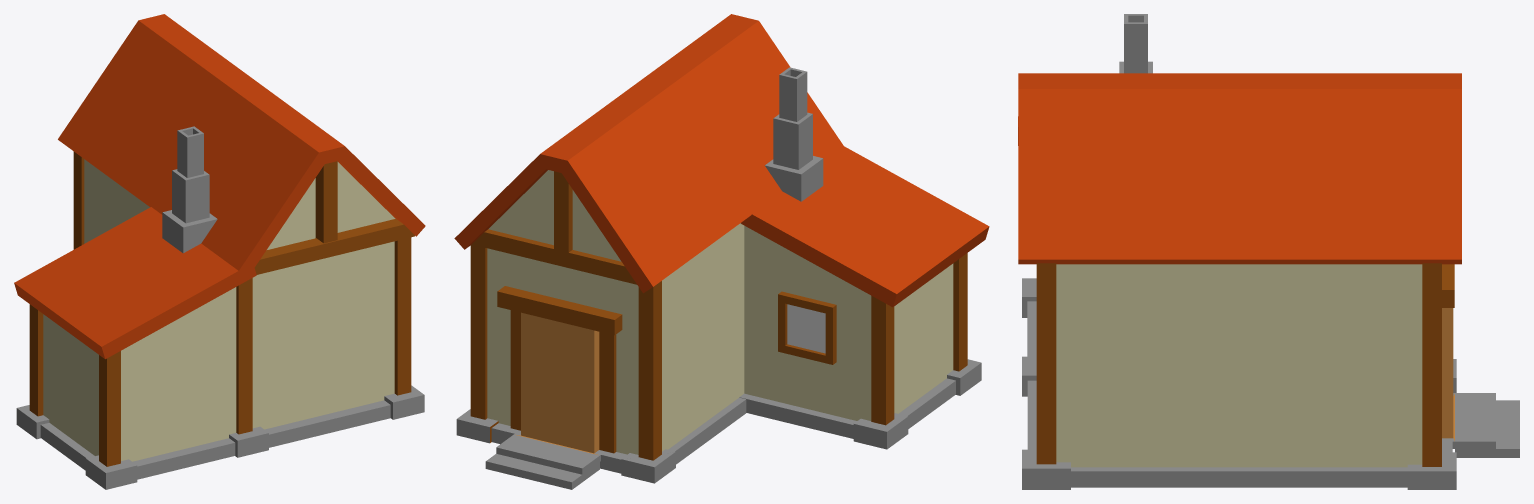
Rendered from House.fbx.
The picture shows the model from 3 angles, left to right: view 1: azimuth 30°, elevation 25°; view 2: azimuth 150°, elevation 25°; view 3: azimuth 270°, elevation 25°; orthographic projection. The views are drawn at different scales.
Visible parts, largest first — view 1: Base Haouse, Roof01, Chimneys, HousePole04, HousePole06, HousePole03, RoofPlank02, HousePole05, RoofPlank04, HousePole01; view 2: Base Haouse, Roof01, Door and Step, HousePole01, Chimneys, HousePole05, HousePole02, Window, RoofPlank01, DoorPlank01, HousePole06, DoorPlank03 (+2 smaller); view 3: Roof01, Base Haouse, HousePole04, Door and Step, HousePole02, Chimneys, DoorPlank01.
Part boxes in pixels (box(x1,y1,x2,y2)): Base Haouse: box(14, 159, 395, 479); Roof01: box(58, 14, 425, 277); Chimneys: box(162, 126, 217, 253); HousePole04: box(384, 237, 424, 419); HousePole06: box(85, 351, 137, 489); HousePole03: box(229, 278, 268, 457); RoofPlank02: box(254, 219, 414, 274); HousePole05: box(16, 304, 49, 439); RoofPlank04: box(315, 161, 337, 243); HousePole01: box(73, 151, 84, 249); Base Haouse: box(487, 146, 989, 473); Roof01: box(454, 14, 843, 293); Door and Step: box(485, 312, 604, 489); HousePole01: box(621, 281, 675, 483); Chimneys: box(765, 67, 823, 201); HousePole05: box(853, 296, 908, 449); HousePole02: box(456, 244, 498, 443); Window: box(778, 291, 836, 364); RoofPlank01: box(472, 229, 636, 284); DoorPlank01: box(497, 286, 622, 335); HousePole06: box(947, 253, 981, 395); DoorPlank03: box(599, 332, 616, 453); Roof01: box(1018, 73, 1461, 264); Base Haouse: box(1018, 116, 1452, 487); HousePole04: box(1022, 263, 1070, 489); Door and Step: box(1442, 308, 1519, 457); HousePole02: box(1407, 263, 1456, 489); Chimneys: box(1119, 14, 1152, 73); DoorPlank01: box(1442, 264, 1454, 307).
Size of the model in its own units: 585 by 503 by 638.
